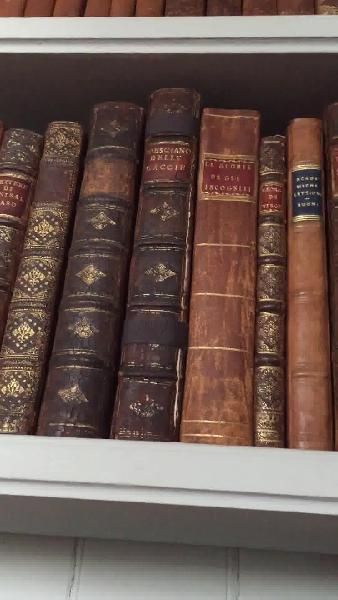Aa6-30: (1, 115, 90, 437)
Aa6-31: (32, 100, 131, 448)
Aa6-32: (108, 89, 188, 441)
Aa6-33: (176, 74, 252, 443)
Aa6-34: (254, 109, 287, 451)
Aa6-35: (284, 113, 337, 460)
